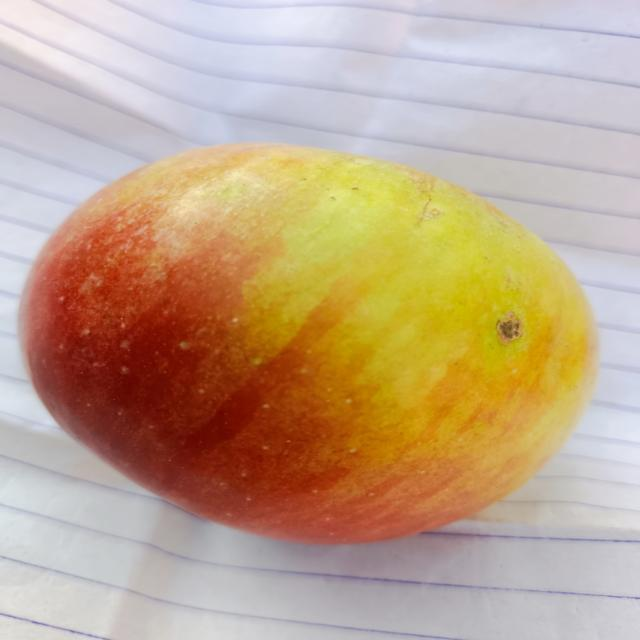Fresh Apple: (27, 157, 608, 563)
